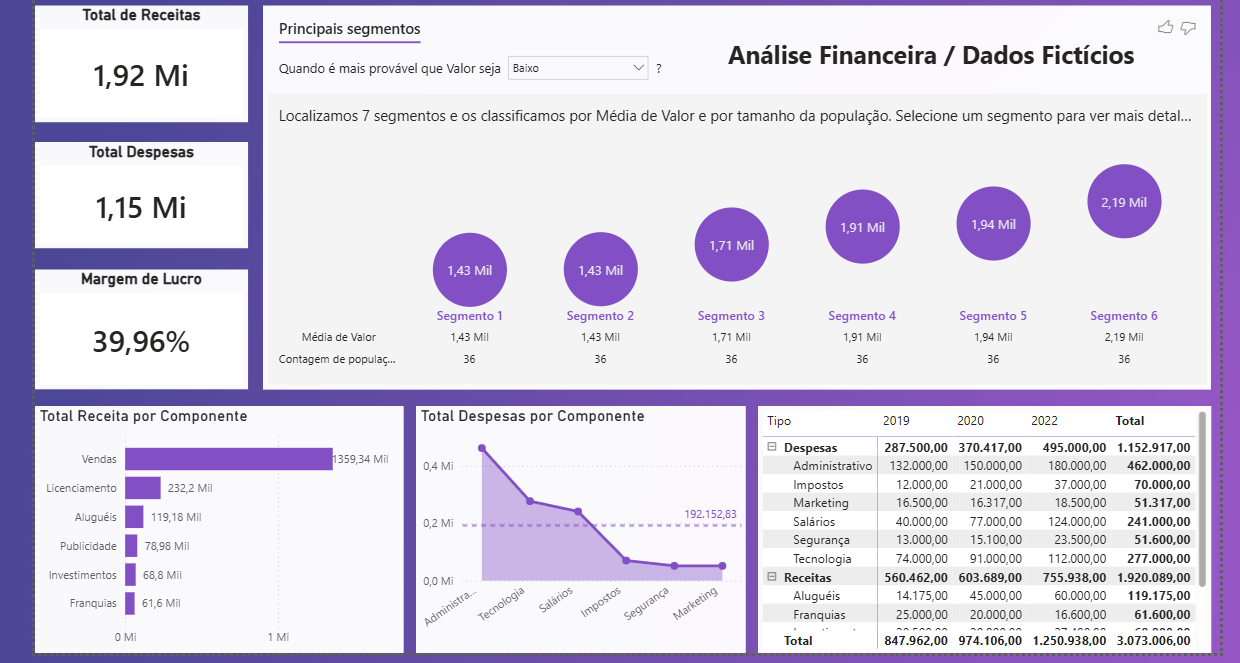

Layout of this report page (visuals, bound fields, positions):
{"tool":"powerbi","page":{"name":"Página 1","canvas":[1280,720],"ordinal":0},"visuals":[{"type":"cardVisual","title":"Total de Receitas","fields":{"Data":["Medidas_Indicadores_financeiros.Total Receita"]},"box":[0,21,229.9,126.3],"z":0},{"type":"cardVisual","title":"Total Despesas","fields":{"Data":["Medidas_Indicadores_financeiros.Total Despesas"]},"box":[0,168.4,229.9,115],"z":1},{"type":"cardVisual","title":"Margem de Lucro","fields":{"Data":["Medidas_Indicadores_financeiros.Margem de Lucro"]},"box":[0,306,229.9,129.5],"z":2},{"type":"barChart","fields":{"Y":["Medidas_Indicadores_financeiros.Total Receita"],"Category":["DadosFinanceiros.Componente"]},"box":[0,453.4,398.3,267.2],"z":3},{"type":"areaChart","fields":{"Y":["Medidas_Indicadores_financeiros.Total Despesas"],"Category":["DadosFinanceiros.Componente"]},"box":[411.3,453.4,356.2,267.2],"z":4},{"type":"pivotTable","fields":{"Rows":["DadosFinanceiros.Tipo","DadosFinanceiros.Componente"],"Values":["Sum(DadosFinanceiros.Valor)"],"Columns":["DadosFinanceiros.Data.Variation.Hierarquia de datas.Ano"]},"box":[780.5,453.4,489,267.2],"z":5},{"type":"keyDriversVisual","fields":{"Target":["DadosFinanceiros.Valor"],"ExplainBy":["DadosFinanceiros.Tipo","DadosFinanceiros.Componente"]},"box":[246.1,21,1023.4,414.5],"z":6},{"type":"textbox","box":[686.6,50.2,561.9,66.4],"z":7}]}

Visuals, with their boxes on the page's 1280x720 design canvas (x1, y1, x2, y2). These are canvas units, not pixel positions in the 1240x663 screenshot, which may show the page scaled, cropped or inside an application window:
"Total de Receitas" cardVisual: [0,21,230,147]
"Total Despesas" cardVisual: [0,168,230,283]
"Margem de Lucro" cardVisual: [0,306,230,436]
barChart - Medidas_Indicadores_financeiros.Total Receita x DadosFinanceiros.Componente: [0,453,398,721]
areaChart - Medidas_Indicadores_financeiros.Total Despesas x DadosFinanceiros.Componente: [411,453,768,721]
pivotTable - DadosFinanceiros.Tipo x DadosFinanceiros.Componente: [780,453,1270,721]
keyDriversVisual - DadosFinanceiros.Valor x DadosFinanceiros.Tipo: [246,21,1270,436]
textbox: [687,50,1248,117]
